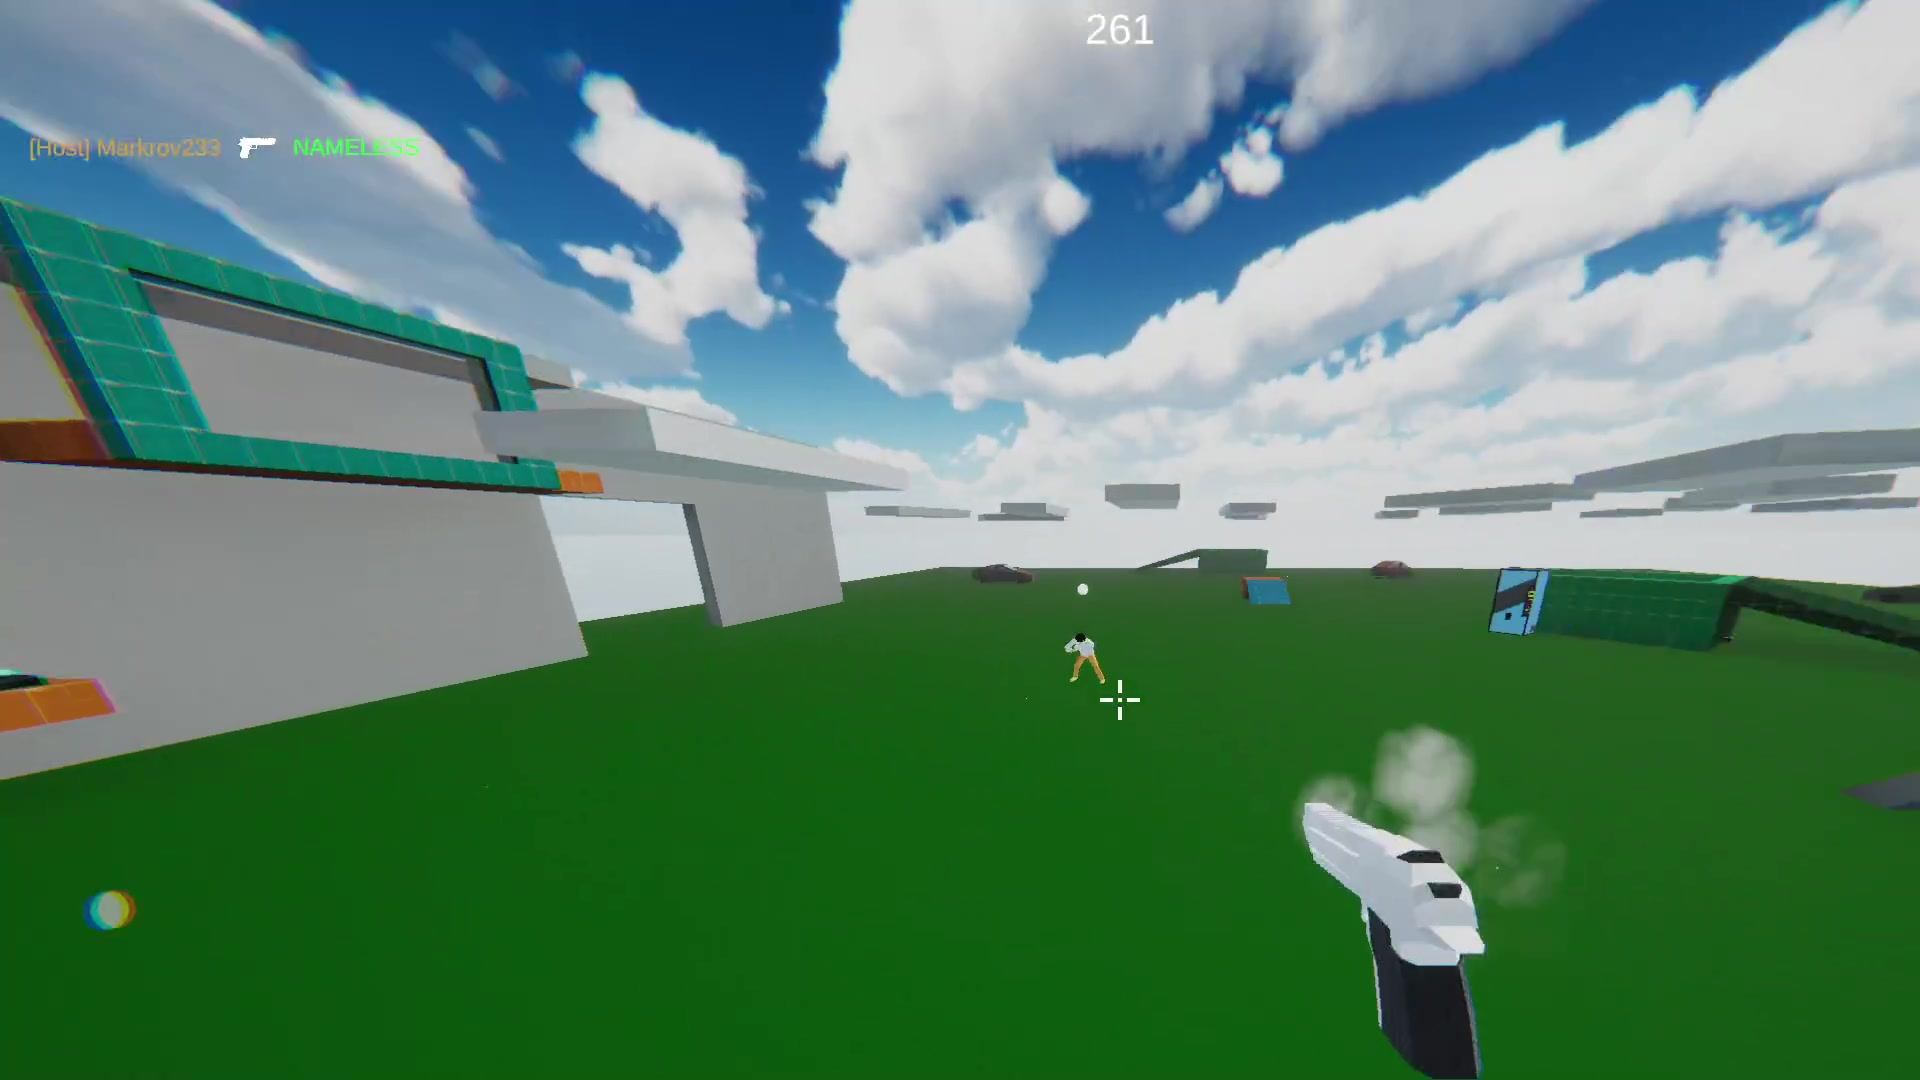human: (1062, 629, 1103, 687)
